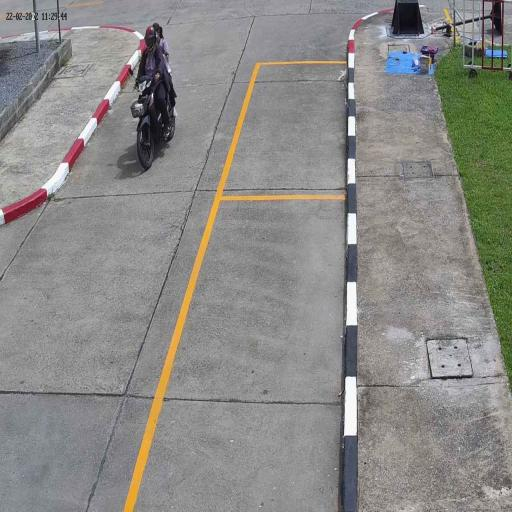motorcycle: (131, 74, 176, 171)
